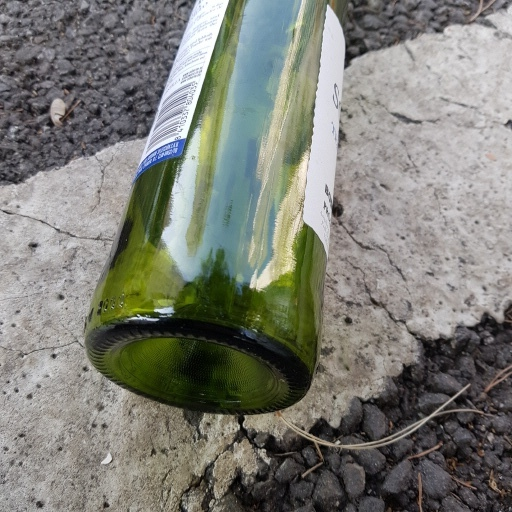Glass_2: (85, 3, 345, 416)
